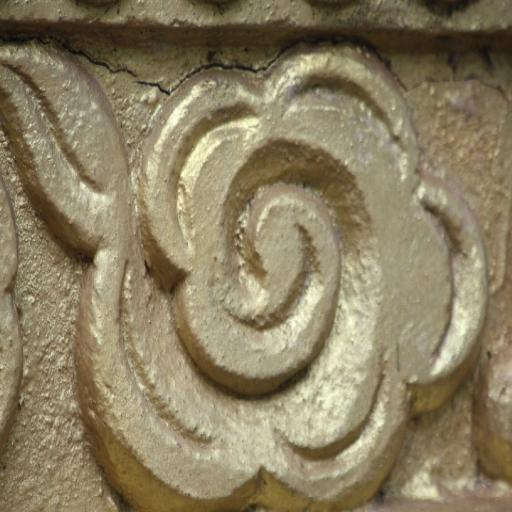hoa: (85, 65, 476, 512)
